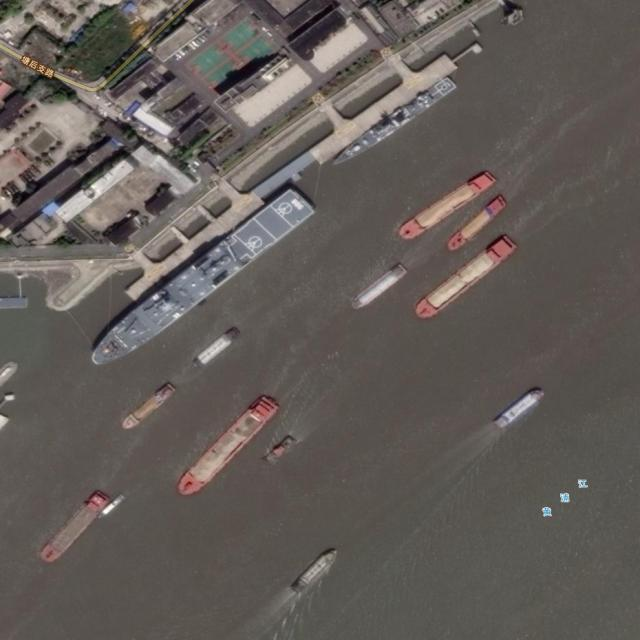Cargo: (170, 391, 283, 501), (409, 232, 521, 326), (394, 166, 498, 244), (36, 489, 112, 567), (441, 193, 511, 256), (121, 381, 179, 431), (349, 262, 409, 310), (492, 385, 546, 432), (292, 546, 340, 595), (191, 325, 242, 370), (262, 433, 297, 469)
Frigate: (330, 74, 459, 176)
Landing: (86, 182, 317, 374)
